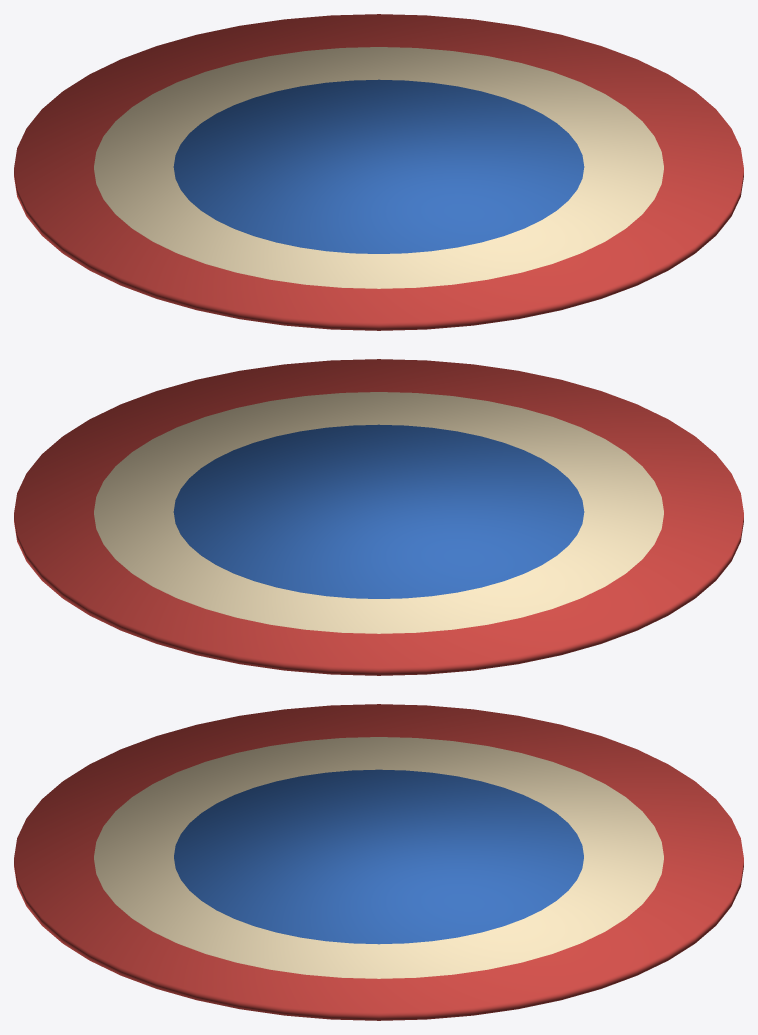
Rendered from rug.glb.
3 renders of one model, top to bottom at view 1: azimuth 30°, elevation 25°; view 2: azimuth 150°, elevation 25°; view 3: azimuth 270°, elevation 25°, orthographic.
Parts seen in each view (by area): view 1: rug, rug_center, rug_ring; view 2: rug, rug_center, rug_ring; view 3: rug, rug_center, rug_ring.
Part boxes in pixels (bbox=[...]): rug: bbox=[14, 14, 743, 330]; rug_center: bbox=[173, 79, 584, 253]; rug_ring: bbox=[94, 47, 663, 288]; rug: bbox=[14, 359, 743, 675]; rug_center: bbox=[173, 424, 584, 598]; rug_ring: bbox=[94, 392, 663, 633]; rug: bbox=[14, 704, 743, 1020]; rug_center: bbox=[174, 769, 583, 944]; rug_ring: bbox=[94, 737, 663, 978].
Bounding box in the file's own units: 3.2 × 0.05 × 3.2.
